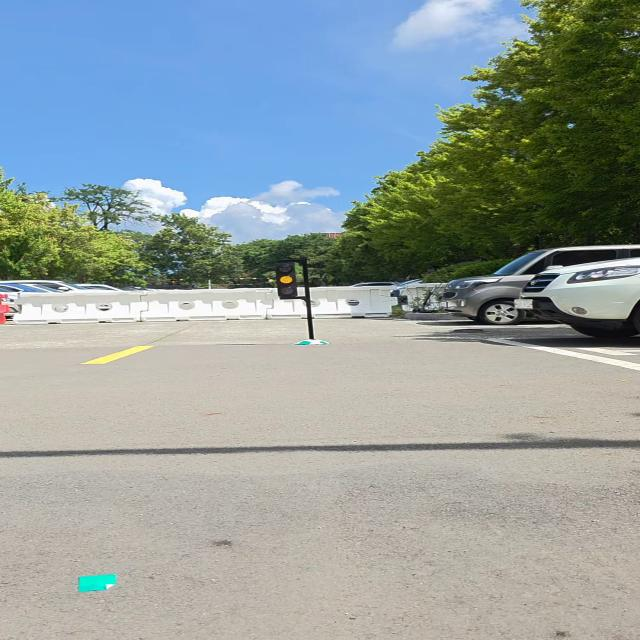yellow: (274, 262, 302, 298)
